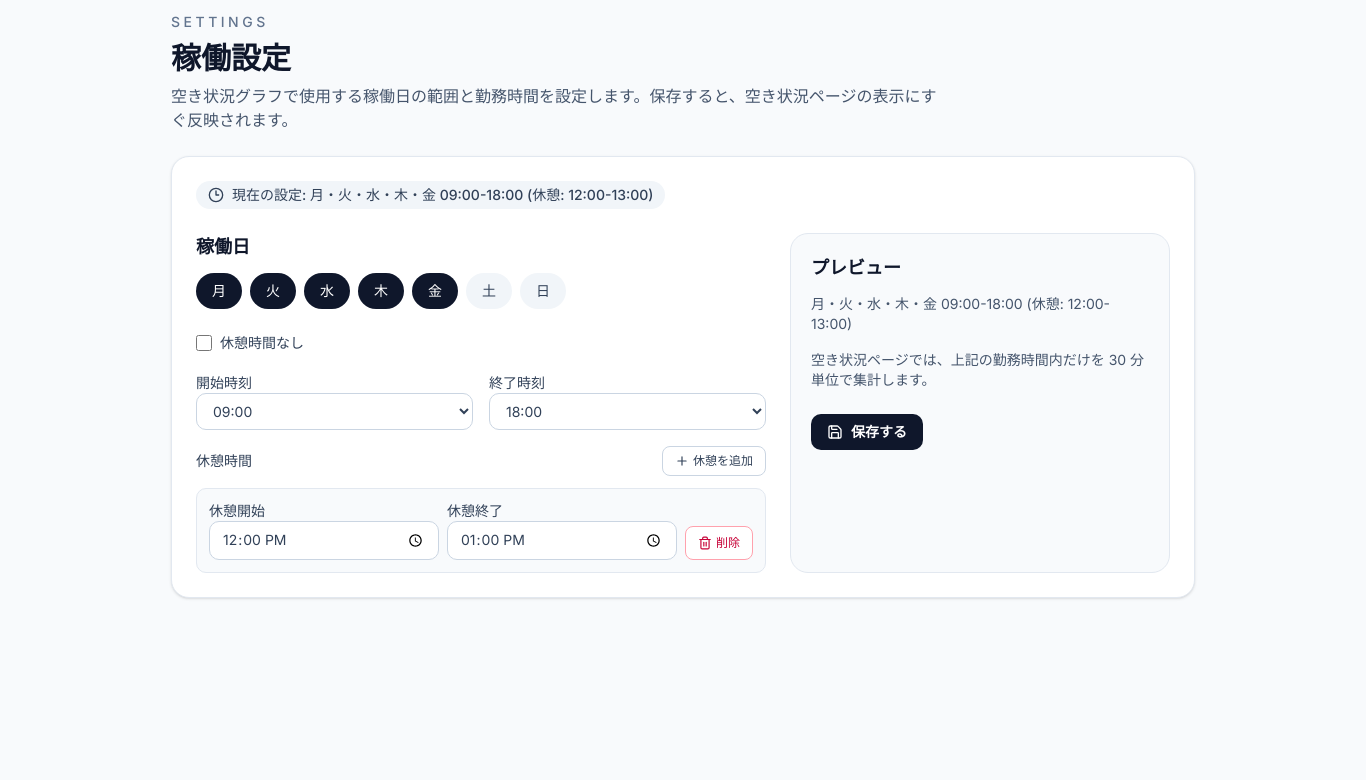
it: WorkHoursPage integration › adds and removes break periods
Expected: the number of buttons "削除" is 1, [685,526,753,560]
Click the button "休憩を追加". click: (714, 461)
box: [662,446,766,476]
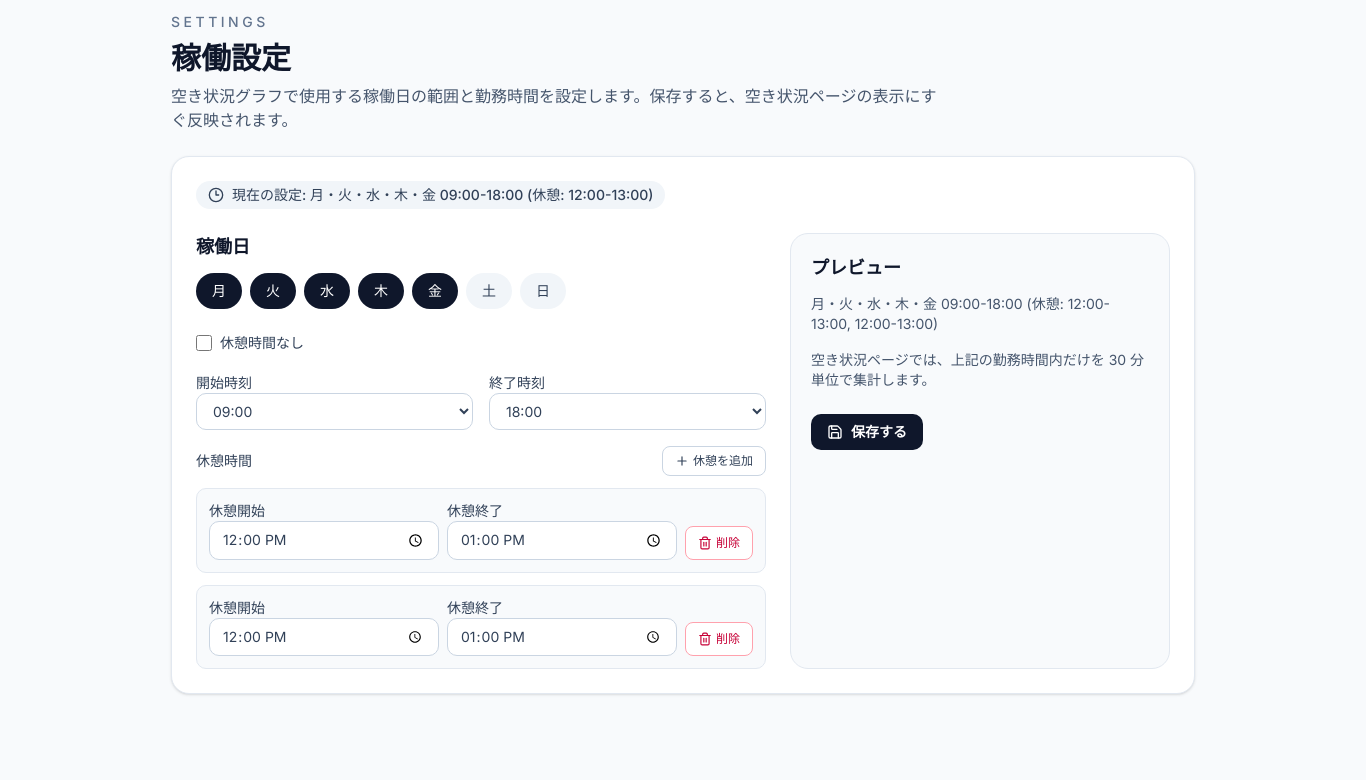
Expected: the number of buttons "削除" is 2
Click the 1st button "削除". click: (719, 543)
box: [685,526,753,560]
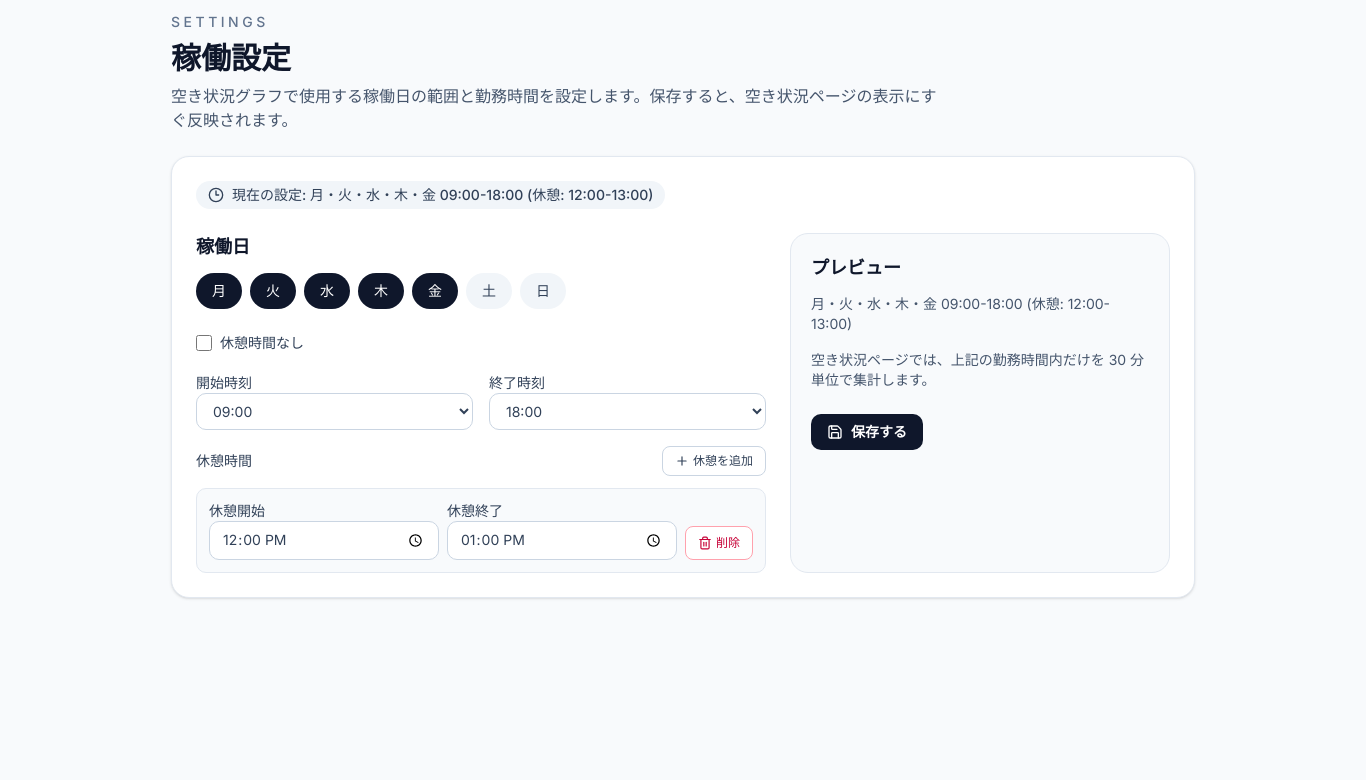
Expected: the number of buttons "削除" is 1, [685,526,753,560]
